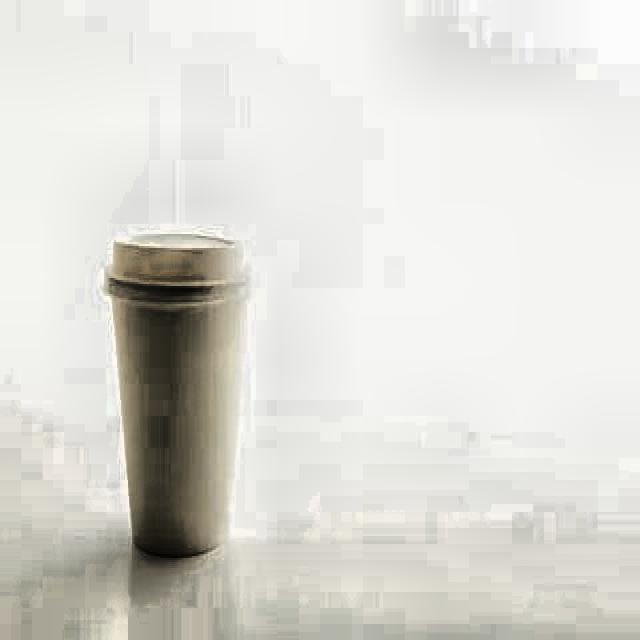Cup: (100, 259, 256, 559)
